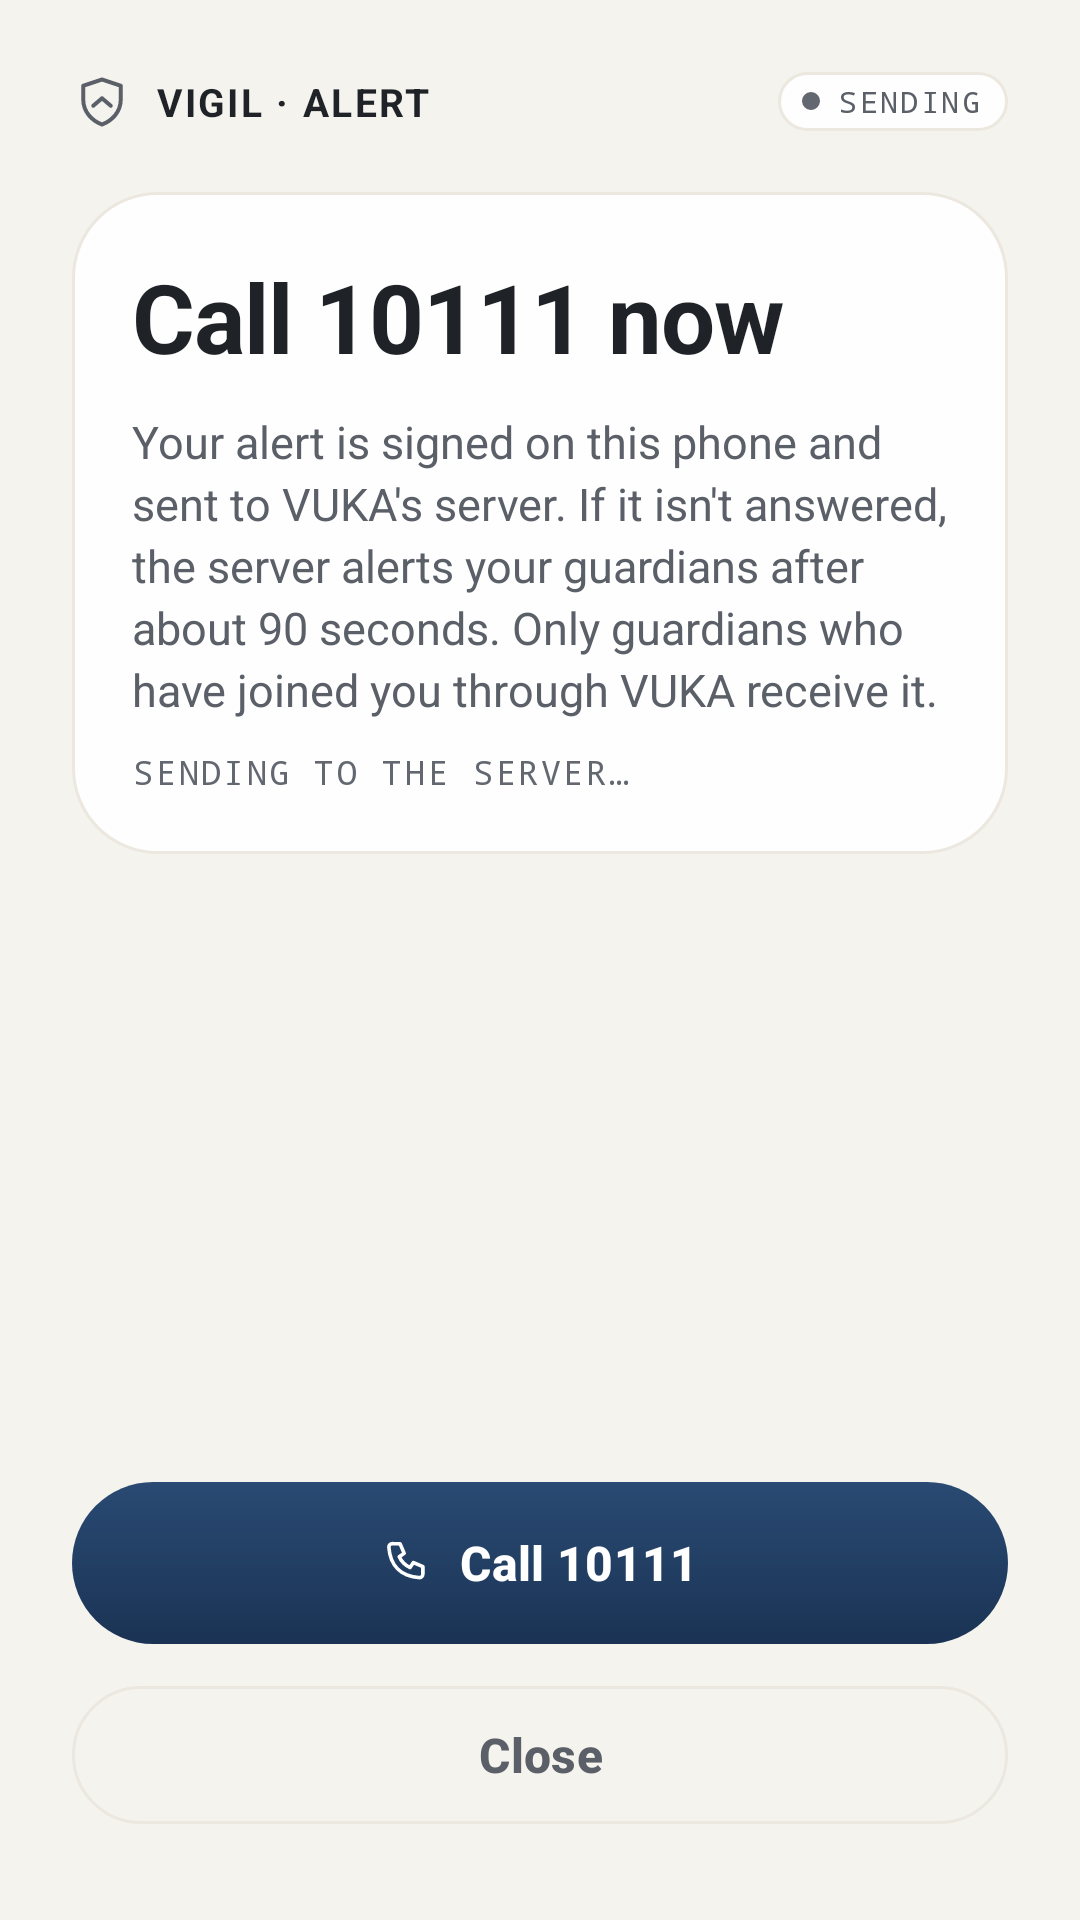

Screen size 1080*1920. Icon name, then its center in pixels as (x,y):
shield chevron: (102,102)
